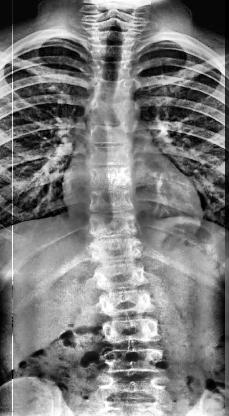Vertebrae: (102, 345, 165, 375), (98, 316, 164, 342), (87, 212, 142, 240), (97, 288, 154, 314), (96, 262, 148, 290), (86, 144, 140, 170), (89, 238, 144, 263), (87, 188, 139, 210), (90, 100, 136, 124), (90, 167, 136, 188), (95, 78, 133, 100), (93, 127, 133, 147), (92, 41, 134, 59), (95, 58, 131, 76), (94, 29, 136, 43)
